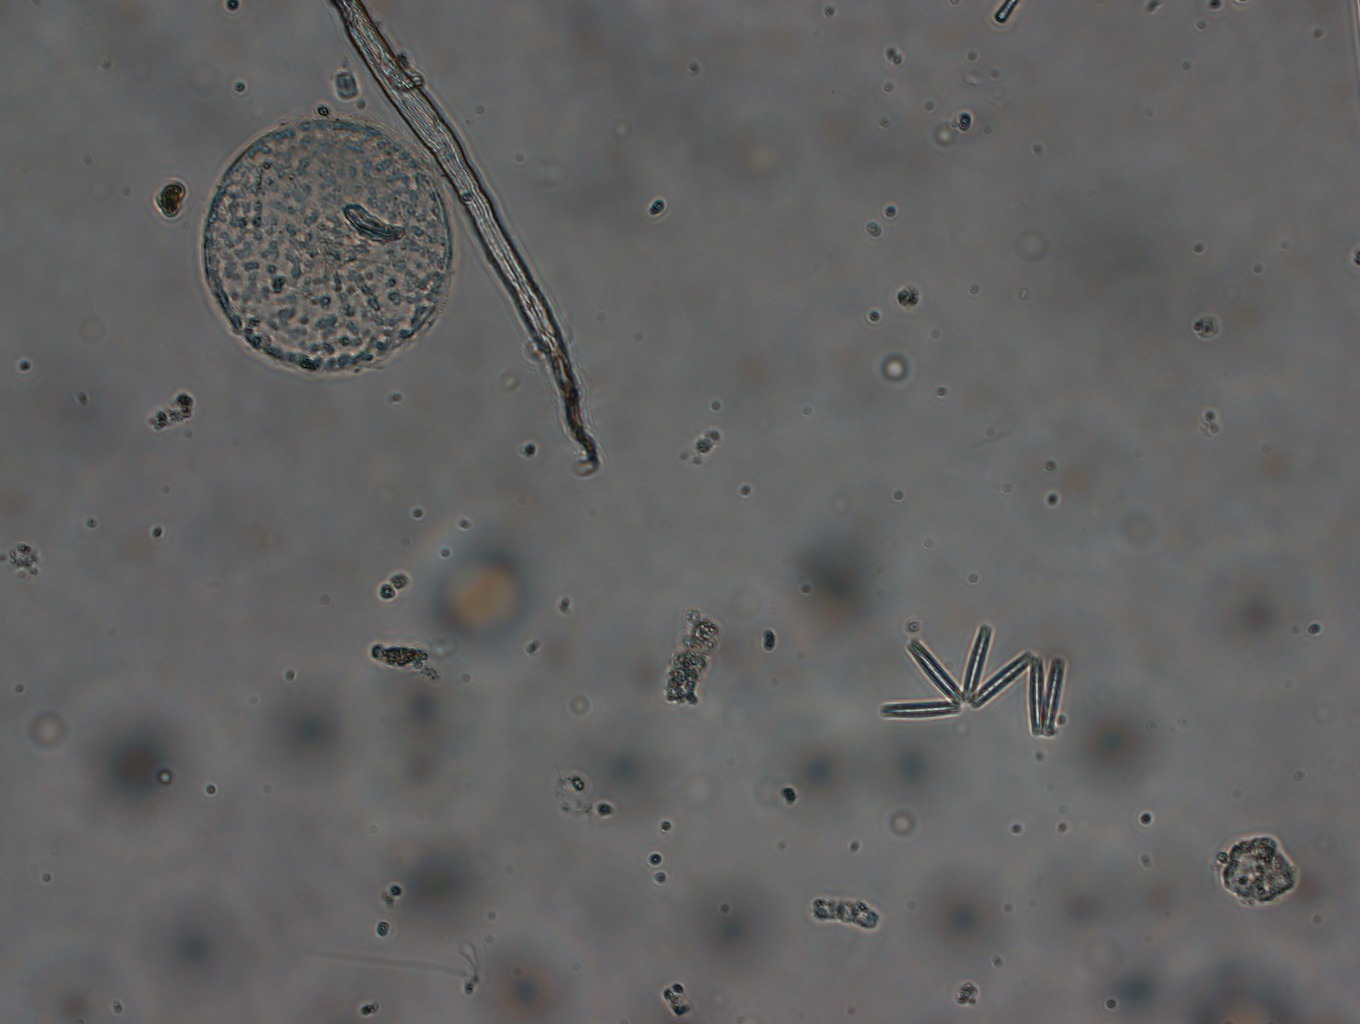coscinodiscus: (199, 118, 456, 375)
thalassionema nitzschioides: (879, 623, 1066, 736)
